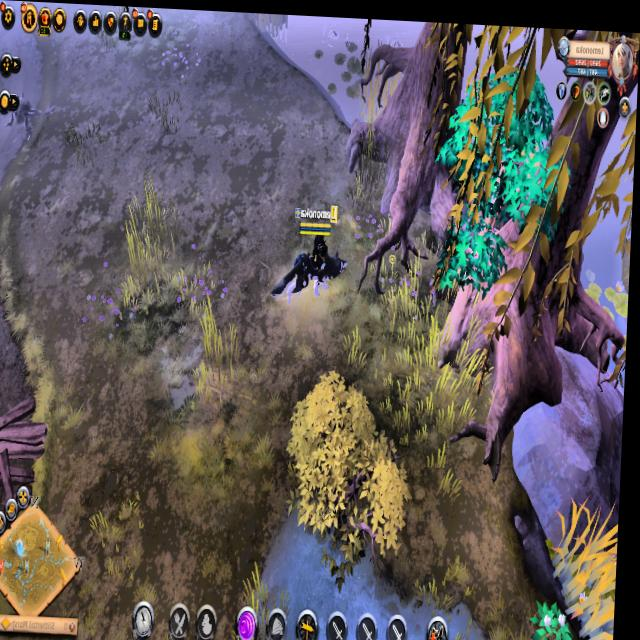fiber tier 3: (535, 590, 582, 640)
